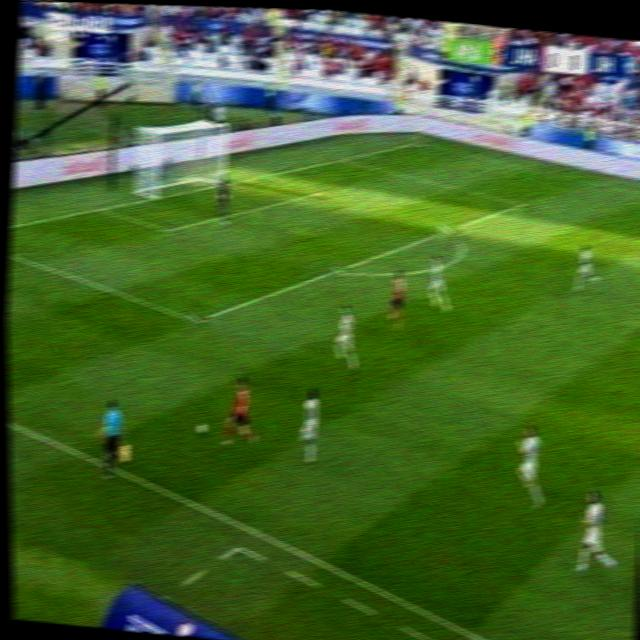bigarea_bottom_inner: (186, 308, 209, 331)
bigarea_top_inner: (511, 193, 531, 212)
bigarea_top_outter: (332, 149, 353, 167)
bottom_arc_area_intersection: (327, 260, 346, 279)
corner: (410, 134, 431, 150)
smallarea_bottom_inner: (159, 219, 178, 239)
smallarea_bottom_outter: (92, 197, 113, 217)
smallarea_top_inner: (311, 181, 335, 200)
smallarea_top_outter: (258, 166, 278, 183)
top_arc_area_intersection: (437, 219, 460, 240)
